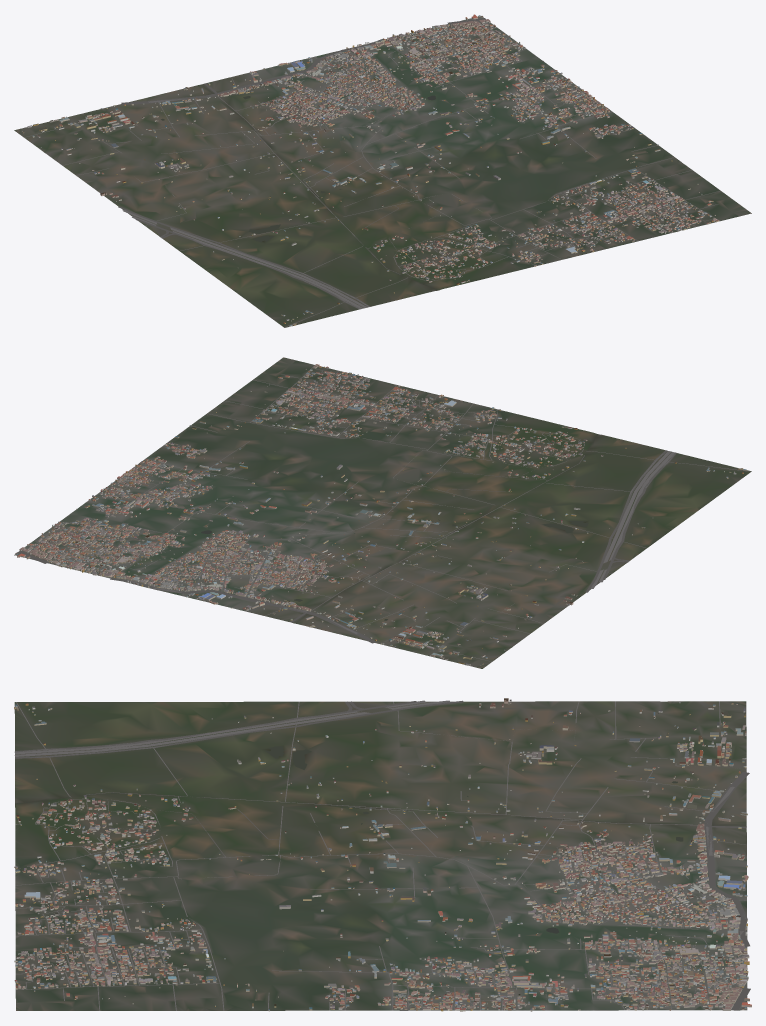
3 renders of one model, top to bottom at view 1: azimuth 30°, elevation 25°; view 2: azimuth 150°, elevation 25°; view 3: azimuth 270°, elevation 25°, orthographic. The views are drawn at different scales.
Parts seen in each view (by area): view 1: ground, buildings, roads; view 2: ground, buildings, roads; view 3: ground, buildings, roads, water.
Boxes of the visible parts, left/top/right/bottom form: ground: left=14, top=16, right=751, bottom=327; buildings: left=22, top=14, right=719, bottom=326; roads: left=24, top=18, right=720, bottom=327; ground: left=14, top=357, right=751, bottom=668; buildings: left=15, top=364, right=746, bottom=665; roads: left=17, top=365, right=750, bottom=661; ground: left=14, top=701, right=747, bottom=1010; buildings: left=14, top=698, right=751, bottom=1011; roads: left=14, top=700, right=750, bottom=1010; water: left=16, top=713, right=696, bottom=933.
Size of the model in its own units: 2820 by 22.96 by 2828.
